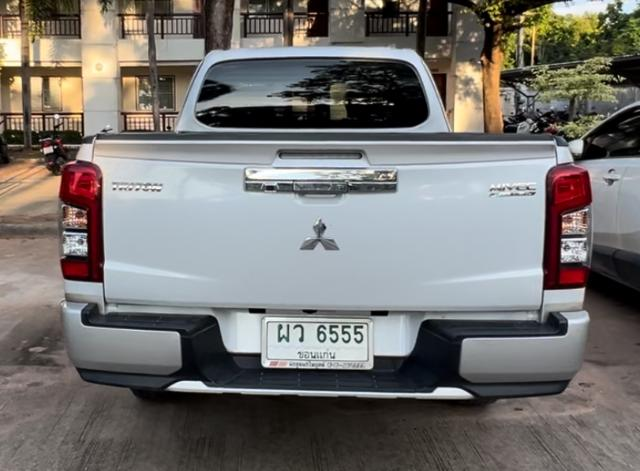pickup-truck: (57, 45, 592, 415)
